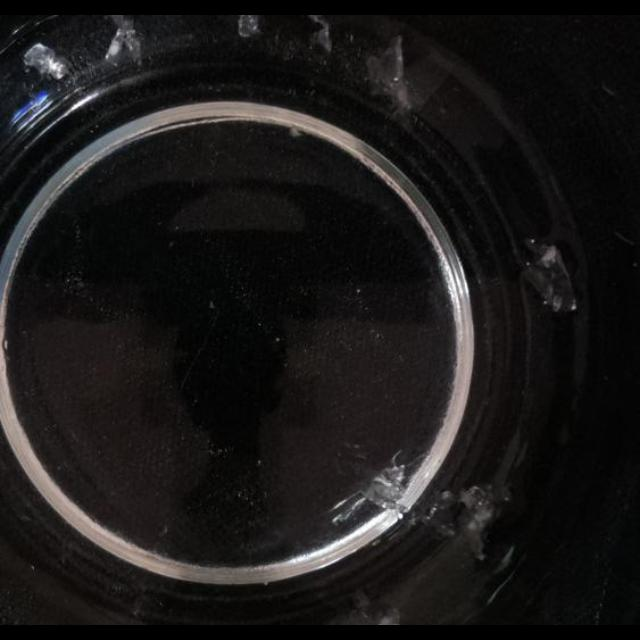Fibre: (328, 442, 427, 530), (520, 238, 578, 312), (449, 485, 501, 559), (364, 36, 410, 110), (342, 590, 398, 624), (105, 18, 142, 66), (305, 16, 333, 52), (289, 125, 305, 138), (602, 83, 616, 97)
microbeads: (256, 458, 264, 468)
